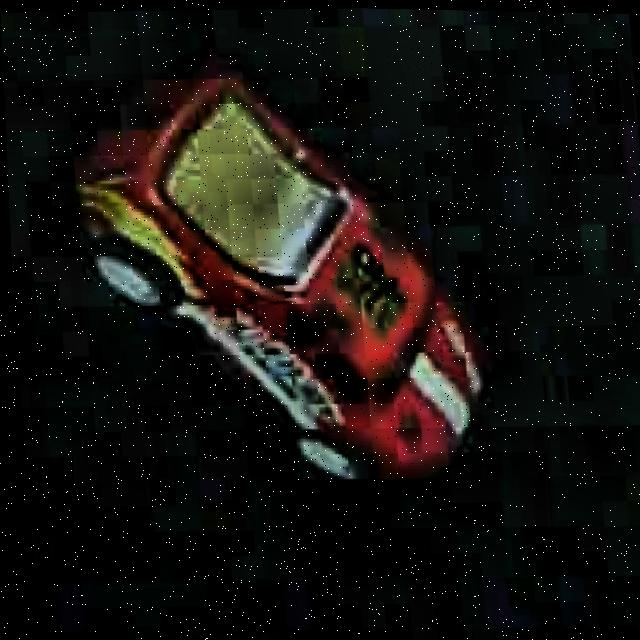car: (49, 49, 503, 503)
